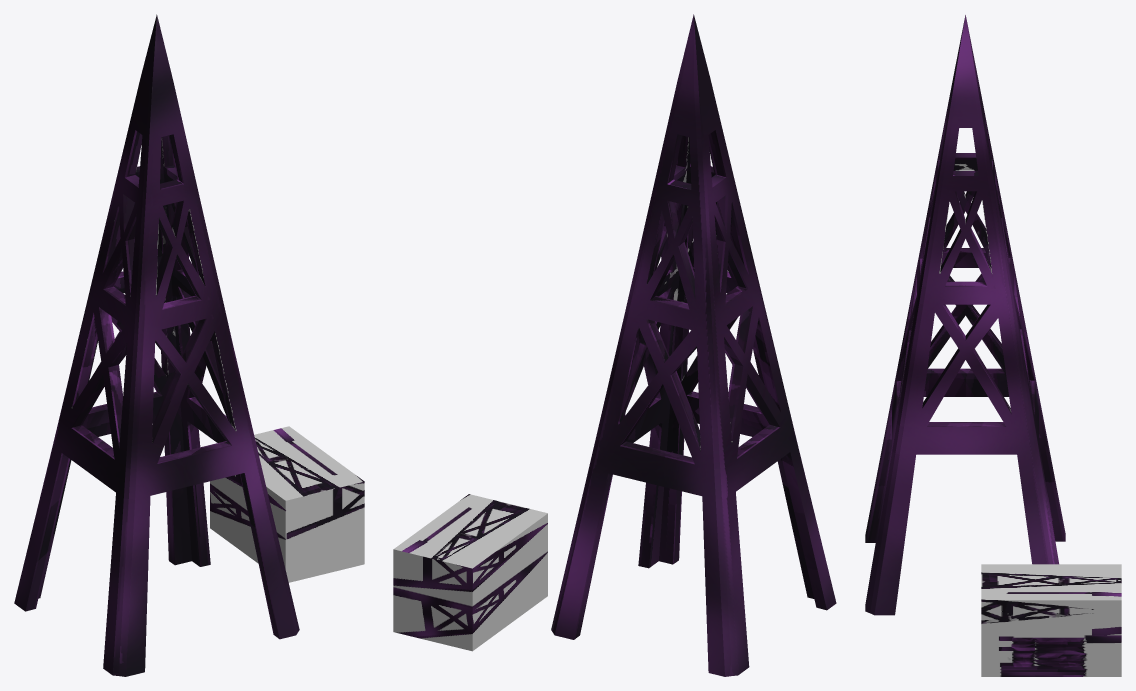
The model's file is radioTower.obj.
3 views of the same model, side by side, from view 1: azimuth 30°, elevation 25°; view 2: azimuth 150°, elevation 25°; view 3: azimuth 270°, elevation 25° (orthographic). The views are drawn at different scales.
Parts seen in each view (by area): view 1: Plane.004, Cube; view 2: Plane.004, Cube; view 3: Plane.004, Cube.
Part boxes in pixels (x1,y1,x2,y2): Plane.004: (14,14,299,676); Cube: (210,426,364,582); Plane.004: (551,14,836,676); Cube: (393,494,547,651); Plane.004: (865,15,1065,615); Cube: (981,564,1121,676).
Bounding box in the file's own units: 0.5819 × 1.09 × 0.4491.
Materials: 1 (1 with a texture image).
